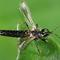Phlaeothripidae: (1, 5, 59, 54)
